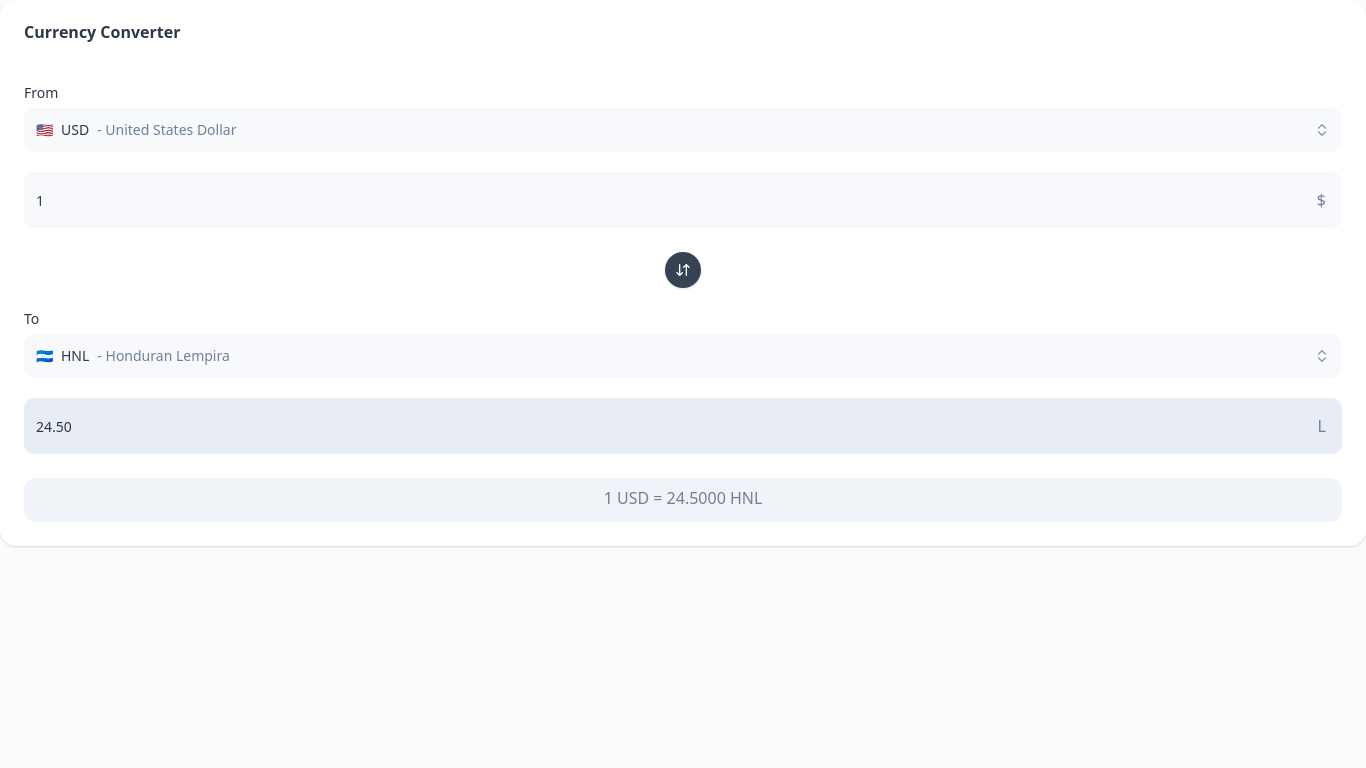
Test: CurrencyConverter Component › Currency Selection › should open from currency dropdown when clicked
What coordinates should you click on to do the following:
click the dropdown with test id "exchange-from-button"
I would click on:
 (171, 130)
Its box is [24,108,1342,152].
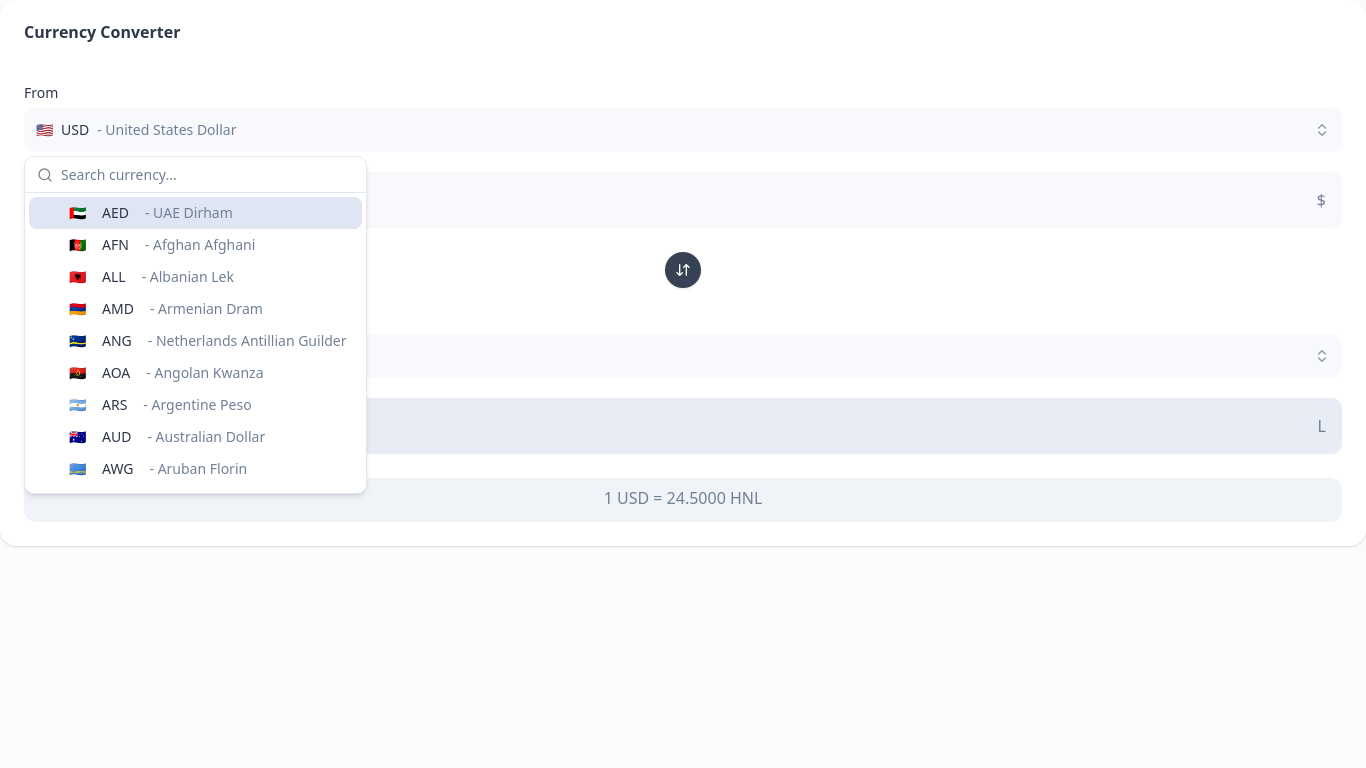
expect the dropdown with placeholder "Search currency..." is shown: met, box [61,157,354,194]
